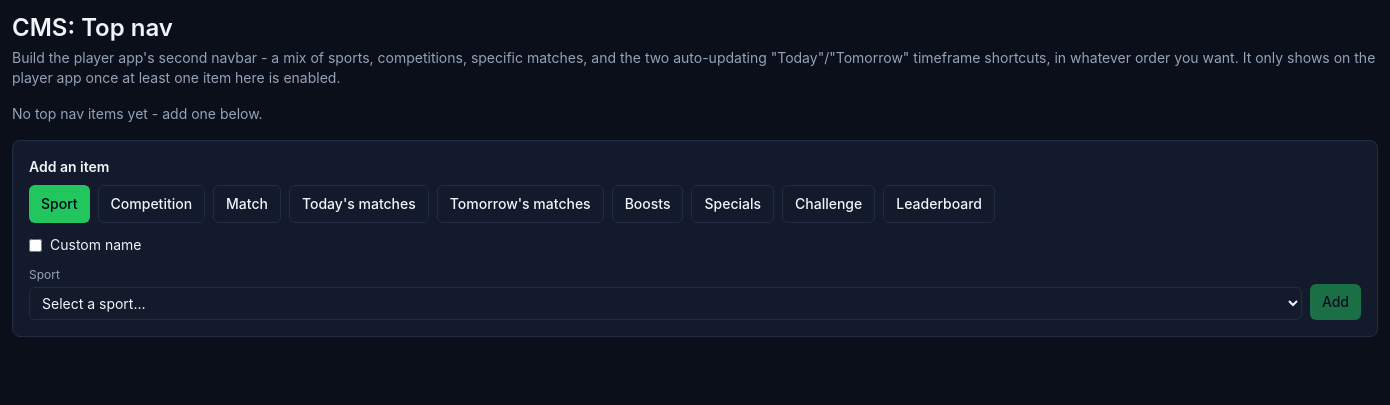
Test: CmsTopNavPage › offers an icon picker while adding a BOOSTS/SPECIALS/CHALLENGE/LEADERBOARD item, unlike SPORT/COMPETITION/MATCH
The image size is (1390, 405).
Click the button "Boosts" at (648,204), box [612, 185, 684, 223]
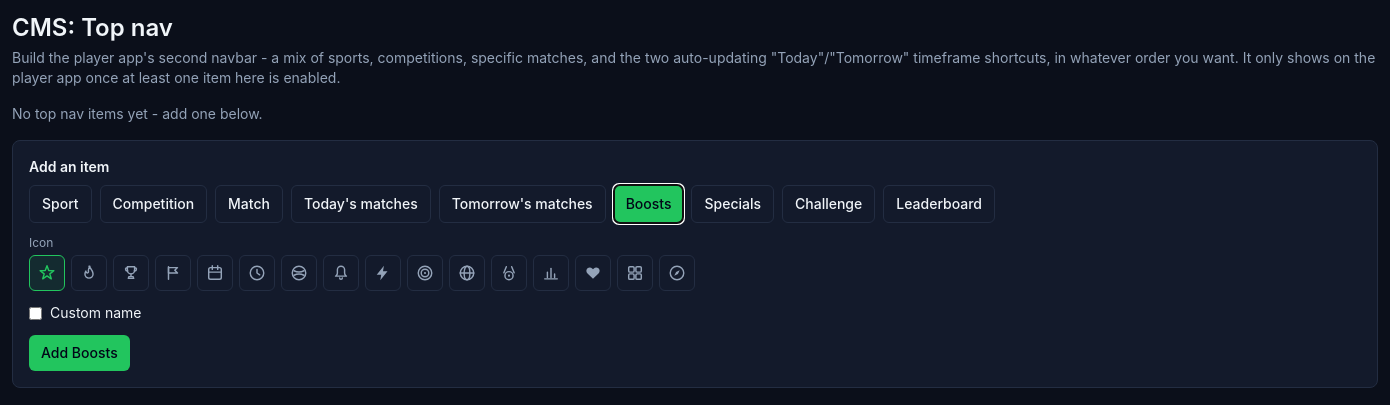
Expected: the text "Icon" is shown, [29, 235, 53, 250]
